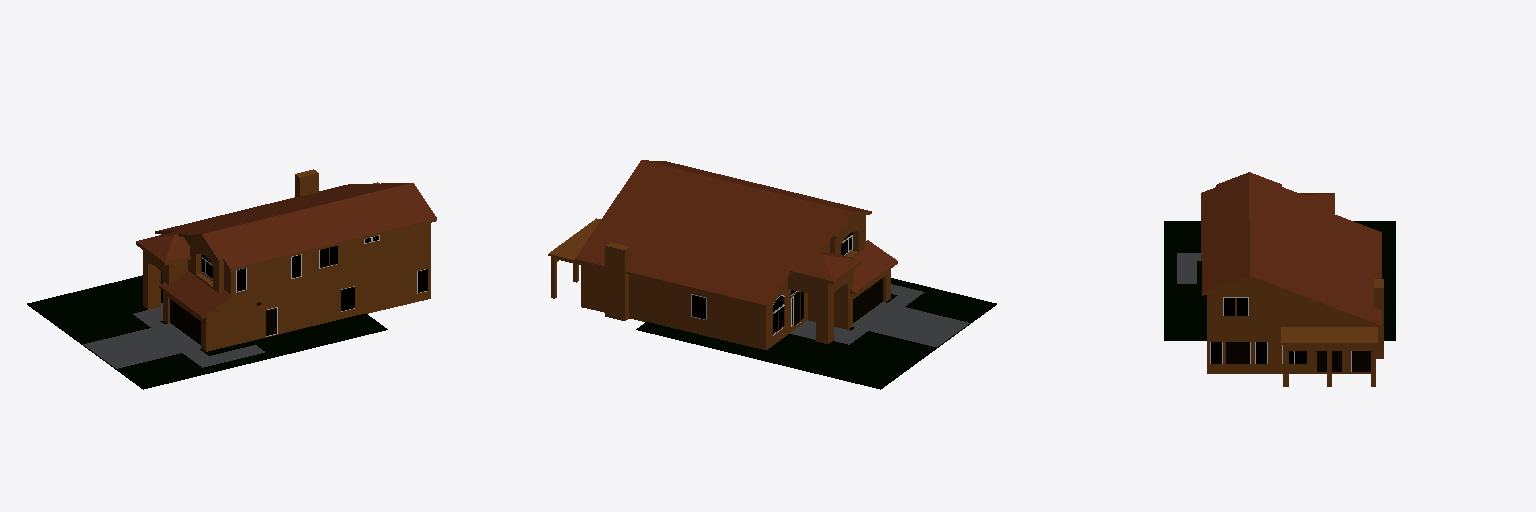
File: HouseModel.obj
3 renders of one model, left to right at view 1: azimuth 30°, elevation 25°; view 2: azimuth 150°, elevation 25°; view 3: azimuth 270°, elevation 25°, orthographic.
Visible parts, largest first — view 1: POLYFACE.001, Cube, POLYFACE.026, POLYFACE.025, Cube.001, POLYFACE.030, POLYFACE.029, BL|GROUP39_1, POLYFACE.009, Cube.006, POLYFACE.044, POLYFACE.042; view 2: POLYFACE.025, Cube, POLYFACE.008, Cube.001, POLYFACE.034, POLYFACE.035, POLYFACE.030, POLYFACE.026, POLYFACE.029, POLYFACE.002, POLYFACE.028, POLYFACE.195 (+3 smaller); view 3: POLYFACE.025, POLYFACE, Cube, POLYFACE.026, POLYFACE.027, POLYFACE.037, Cube.006, BL|GROUP60_1.
Boxes of the visible parts, box(x1,y1,x2,y2) form: POLYFACE.001: box(206, 223, 430, 351); Cube: box(27, 272, 387, 389); POLYFACE.026: box(202, 183, 436, 268); POLYFACE.025: box(139, 183, 408, 240); Cube.001: box(83, 323, 200, 368); POLYFACE.030: box(160, 271, 231, 316); POLYFACE.029: box(143, 250, 205, 350); BL|GROUP39_1: box(170, 299, 200, 344); POLYFACE.009: box(188, 237, 218, 292); Cube.006: box(192, 345, 264, 367); POLYFACE.044: box(230, 219, 436, 271); POLYFACE.042: box(148, 264, 160, 309); POLYFACE.025: box(575, 160, 852, 305); Cube: box(636, 278, 996, 389); POLYFACE.008: box(629, 275, 765, 349); Cube.001: box(853, 302, 969, 347); POLYFACE.034: box(605, 246, 624, 320); POLYFACE.035: box(788, 274, 827, 343); POLYFACE.030: box(850, 240, 897, 291); POLYFACE.026: box(642, 160, 867, 211); POLYFACE.029: box(828, 269, 890, 343); POLYFACE.002: box(766, 278, 807, 349); POLYFACE.028: box(808, 284, 847, 329); POLYFACE.195: box(584, 266, 604, 305); POLYFACE.025: box(1249, 172, 1381, 325); POLYFACE: box(1207, 285, 1376, 373); Cube: box(1164, 221, 1395, 340); POLYFACE.026: box(1201, 172, 1249, 292); POLYFACE.027: box(1281, 327, 1377, 342); POLYFACE.037: box(1283, 345, 1375, 386); Cube.006: box(1177, 253, 1196, 283); BL|GROUP60_1: box(1226, 342, 1249, 363).
Bounding box in the file's own units: 1101 × 307 × 648.